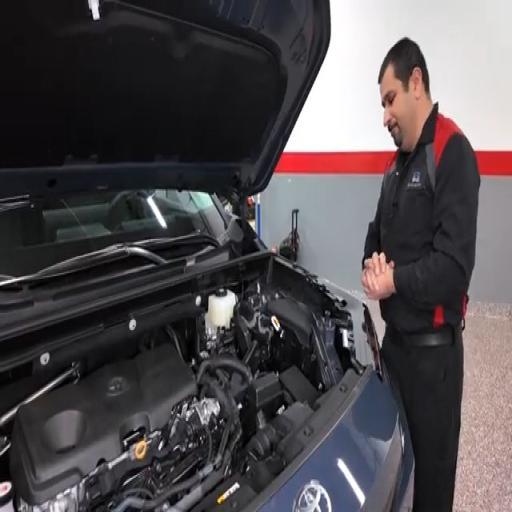bumper: (259, 373, 414, 511)
emblem: (293, 481, 331, 511)
hood: (0, 0, 330, 197)
windshield: (0, 190, 225, 278)
